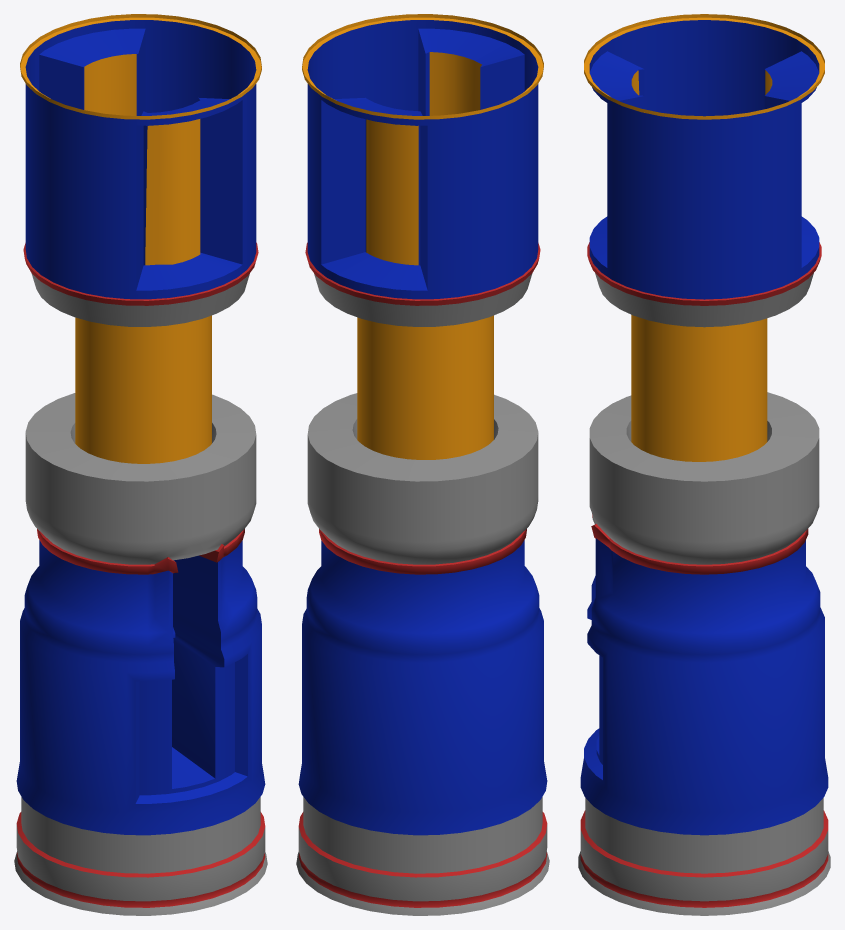
Rendered from LArge Support Collumn.FBX.
The picture shows the model from 3 angles, left to right: view 1: azimuth 30°, elevation 25°; view 2: azimuth 150°, elevation 25°; view 3: azimuth 270°, elevation 25°; orthographic projection.
Parts seen in each view (by area): view 1: Cylinder108; view 2: Cylinder108; view 3: Cylinder108.
Boxes of the visible parts, x1=… form: Cylinder108: x1=14, y1=14, x2=267, y2=915; Cylinder108: x1=296, y1=14, x2=549, y2=915; Cylinder108: x1=578, y1=14, x2=830, y2=915.
Size of the model in its own units: 125 by 435 by 125.
